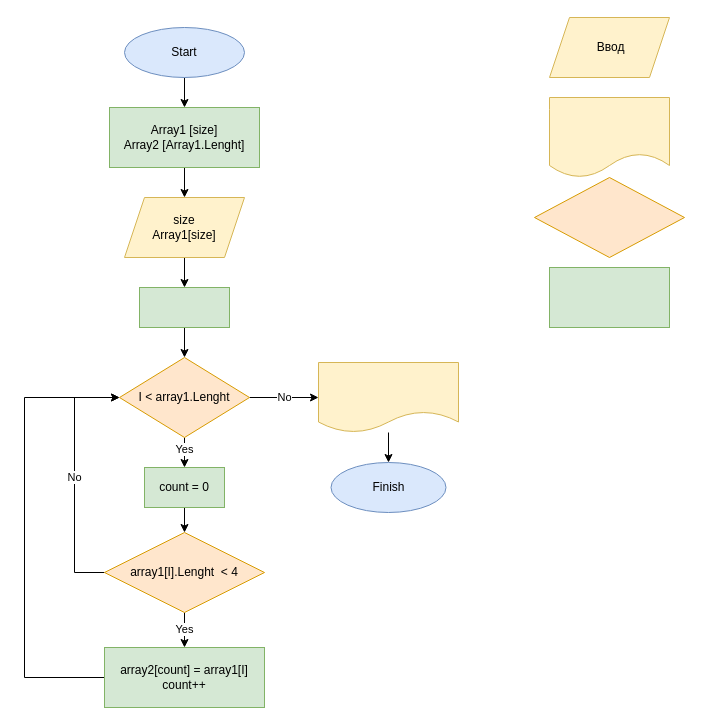
The diagram is 702 pixels wide and 725 high, and some of its shapes have lost their labels. The shapes that lost their labels are listed below. From the top down, each one's box as (x1, y1, x2, y2) in pixels, then its label:
(548, 96, 670, 178): Вывод
(534, 176, 684, 258): Условия и циклы
(138, 286, 230, 328): I = 0
(548, 266, 670, 328): Решение
(318, 362, 458, 432): Print array1, array2
